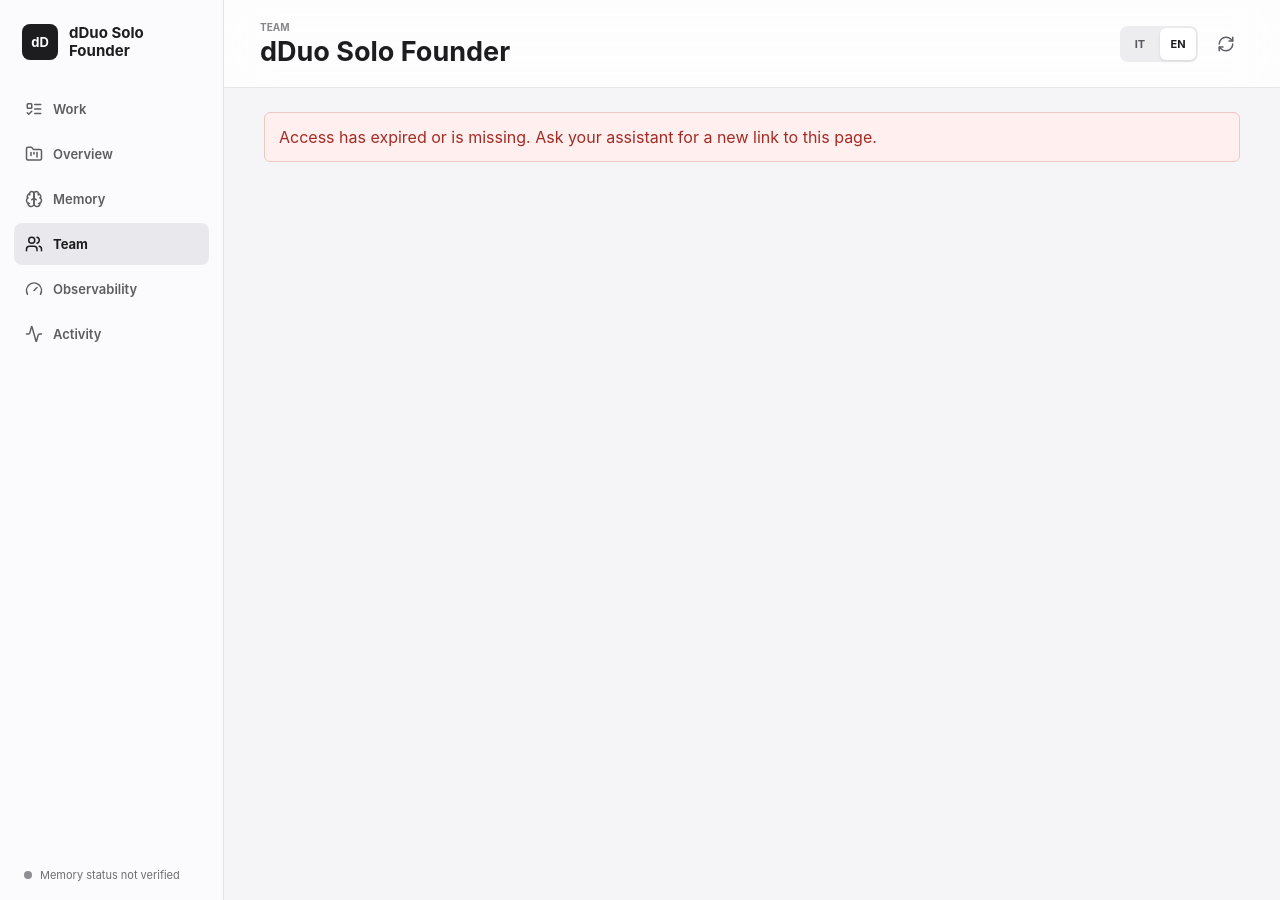
App › refreshes the exact project after authorization failure on the team tab
Expected: the message shows "Access has expired or is missing", [279,127,877,147]
Click the button named "Refresh current view".
click(1226, 44)  # box [1208,26,1244,62]
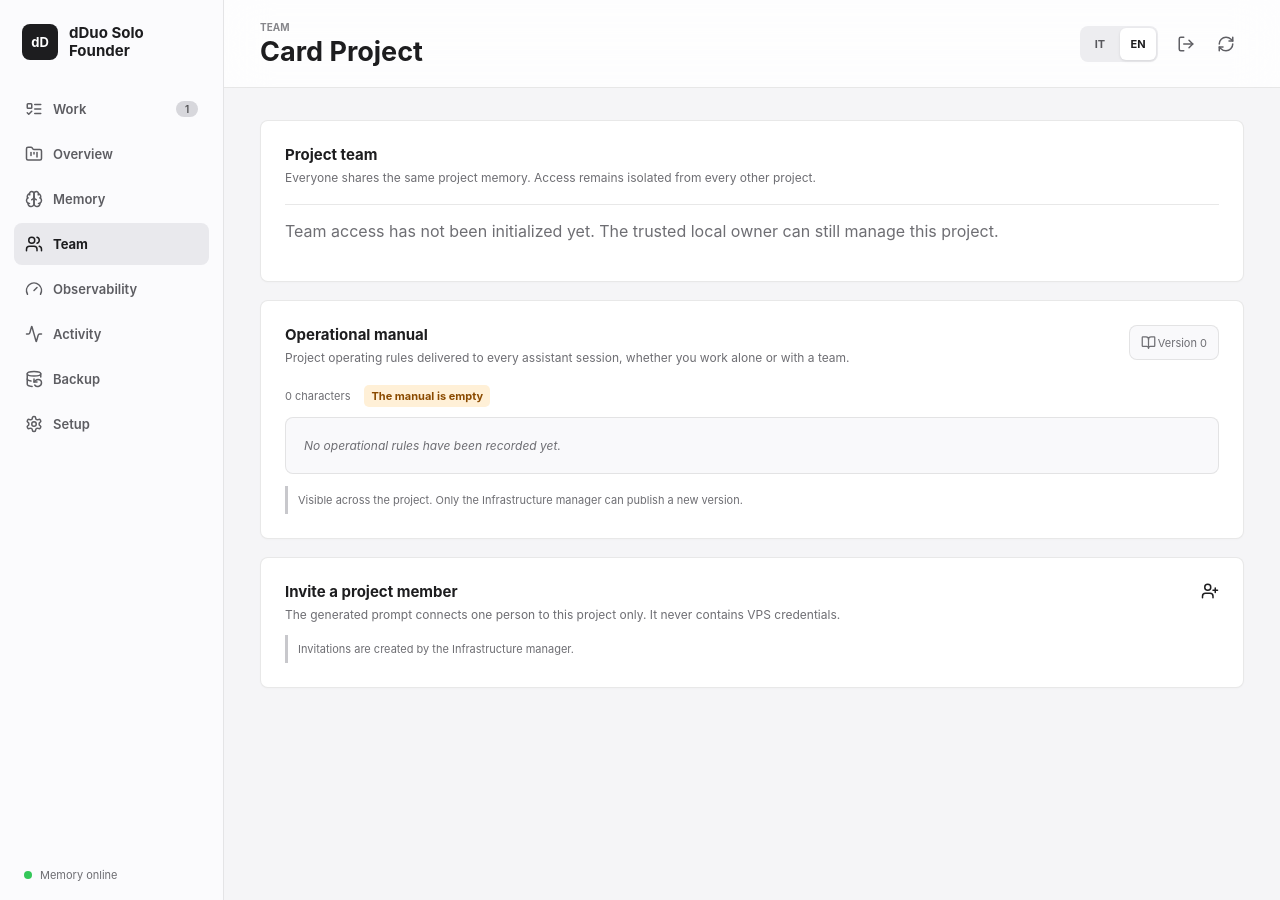
Result: the heading "Card Project" is shown at [260,37,423,66]
